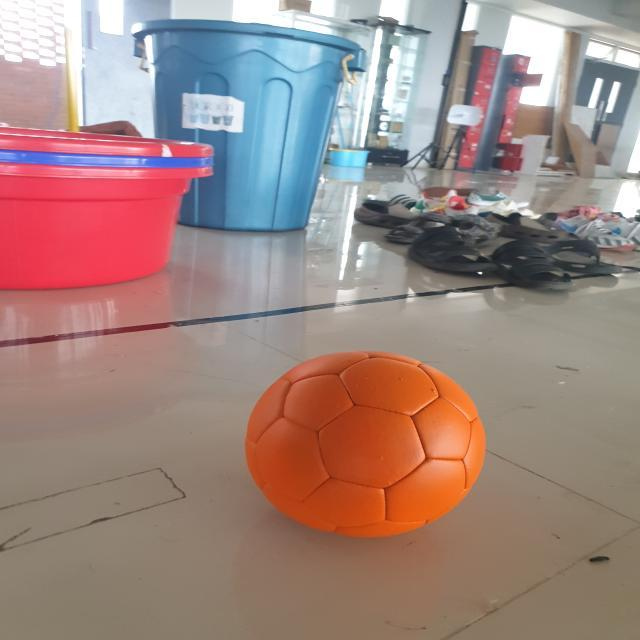bola: (234, 333, 496, 544)
